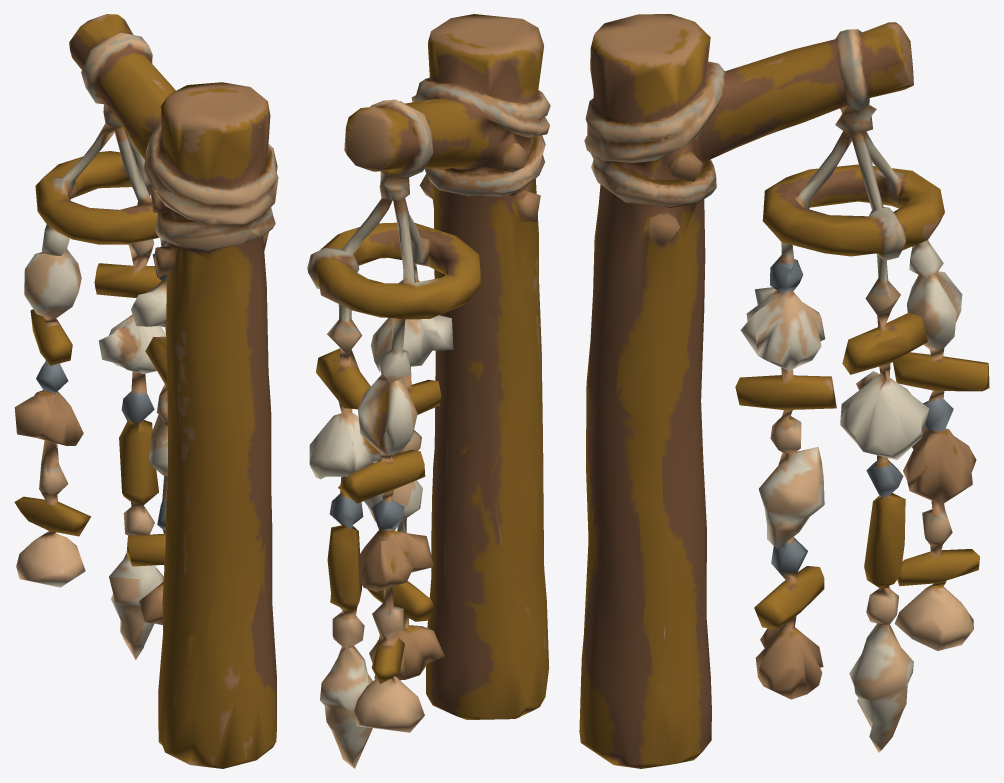
The model's file is f-chime.glb.
3 renders of one model, left to right at view 1: azimuth 30°, elevation 25°; view 2: azimuth 150°, elevation 25°; view 3: azimuth 270°, elevation 25°, orthographic. The views are drawn at different scales.
Parts seen in each view (by area): view 1: tripo_node_0638831d-ab8d-46cb-b11b-3a9ccd911031; view 2: tripo_node_0638831d-ab8d-46cb-b11b-3a9ccd911031; view 3: tripo_node_0638831d-ab8d-46cb-b11b-3a9ccd911031.
Boxes of the visible parts, <box> form: tripo_node_0638831d-ab8d-46cb-b11b-3a9ccd911031: <box>14,14,278,768</box>; tripo_node_0638831d-ab8d-46cb-b11b-3a9ccd911031: <box>307,14,550,768</box>; tripo_node_0638831d-ab8d-46cb-b11b-3a9ccd911031: <box>579,14,989,768</box>.
Bounding box in the file's own units: 0.2264 × 1 × 0.5177.
1 material, 1 textured.
